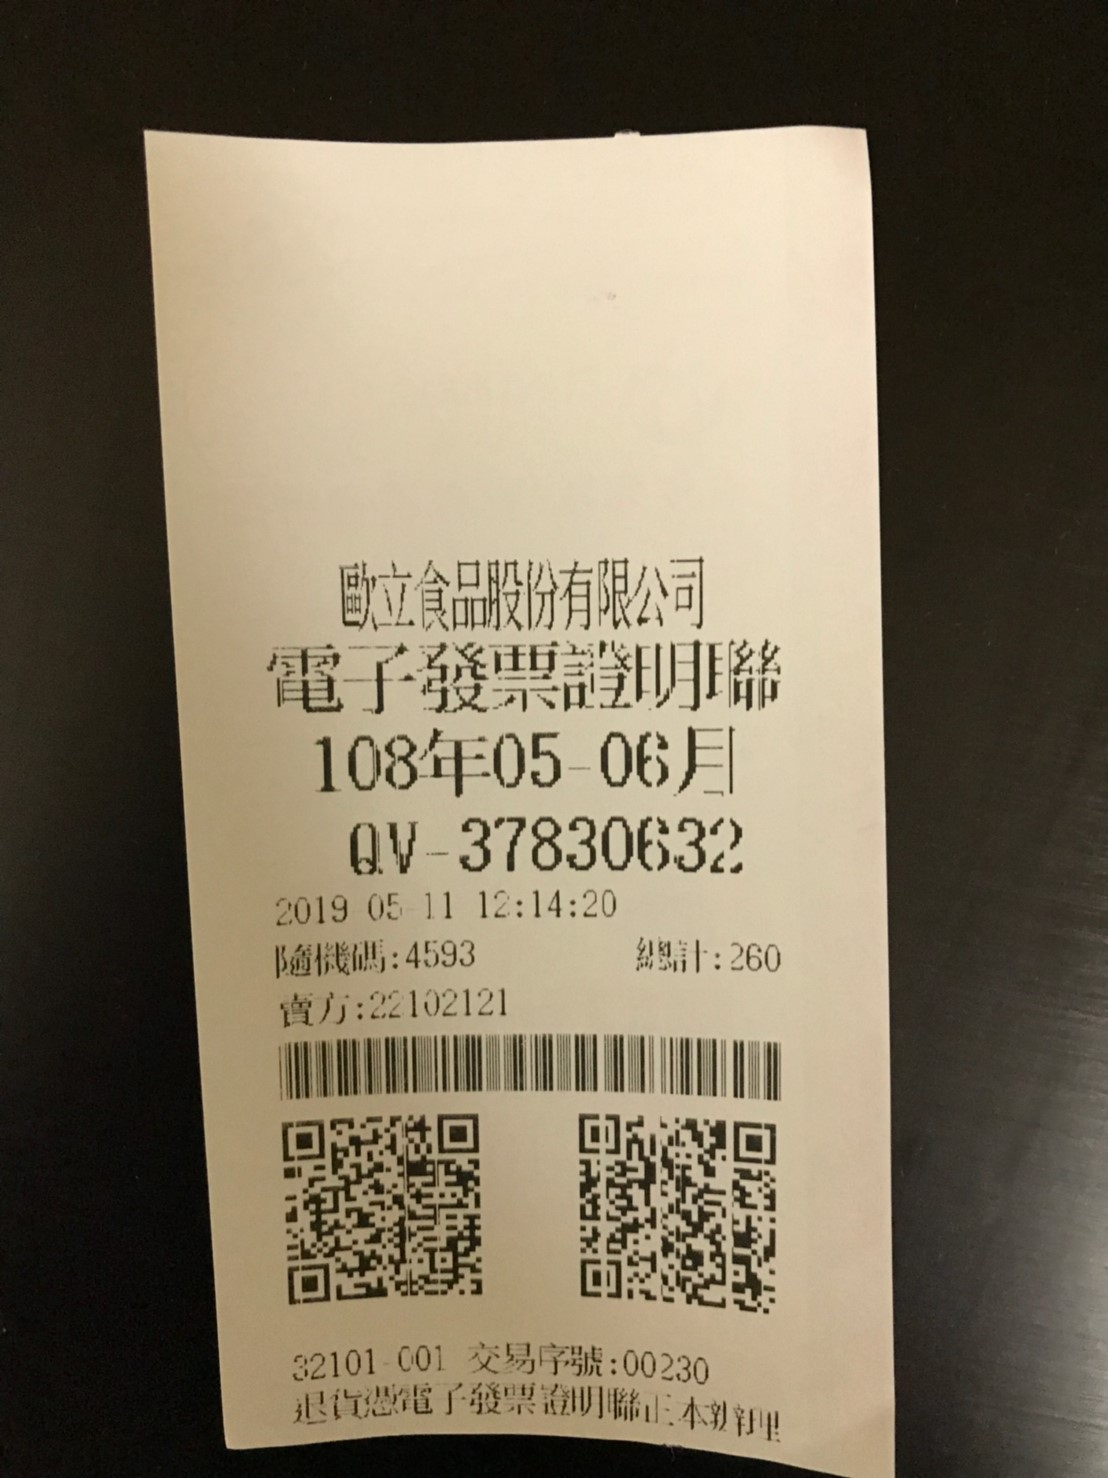Date_New: (306, 725, 743, 801)
Number_New: (457, 806, 754, 876)
